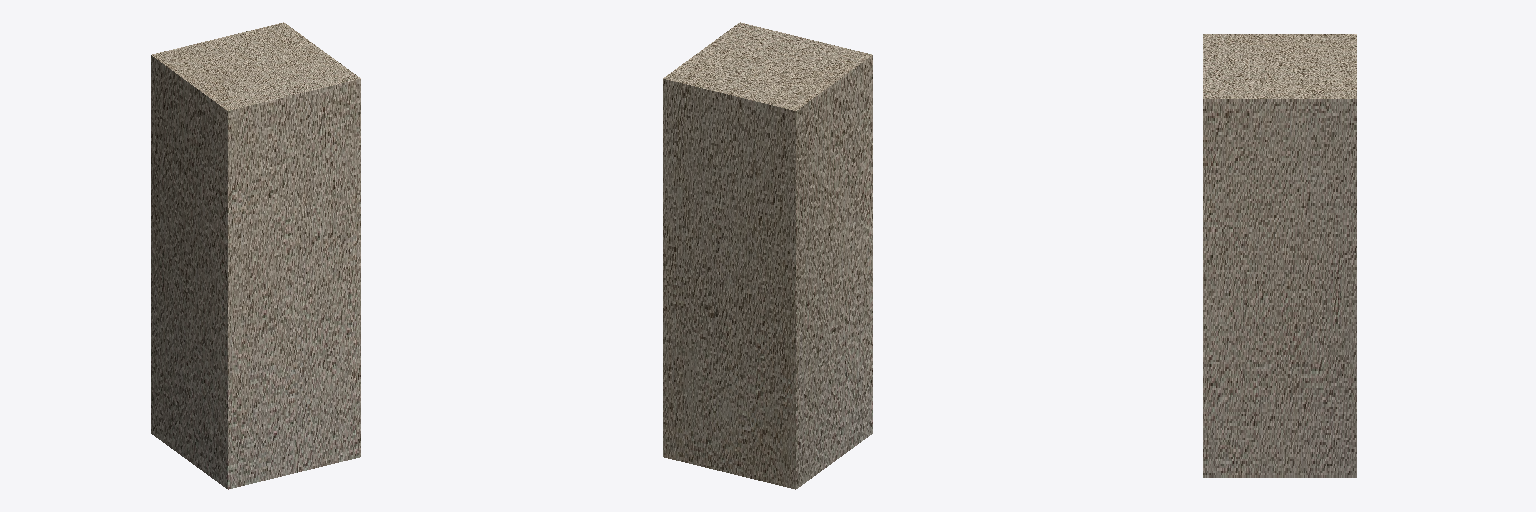
3 renders of one model, left to right at view 1: azimuth 30°, elevation 25°; view 2: azimuth 150°, elevation 25°; view 3: azimuth 270°, elevation 25°, orthographic.
Parts seen in each view (by area): view 1: pCube1; view 2: pCube1; view 3: pCube1.
Part boxes in pixels (x1,y1,x2,y2): pCube1: (151,22,360,489); pCube1: (663,22,872,489); pCube1: (1203,34,1356,477).
Bounding box in the file's own units: 1 × 2.71 × 1.
1 materials, 1 textured.